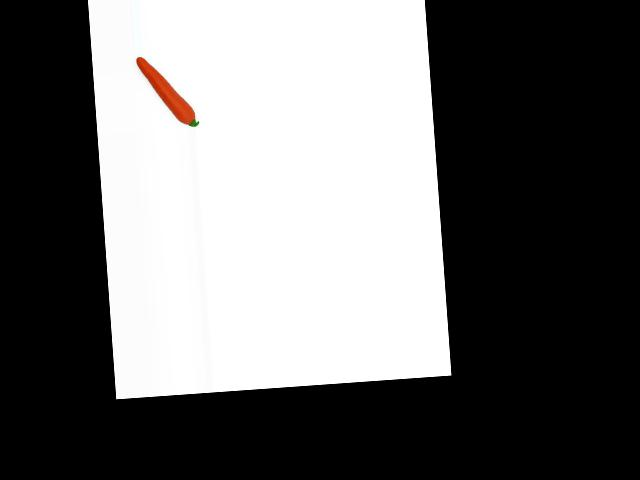carrot: (132, 52, 198, 128)
